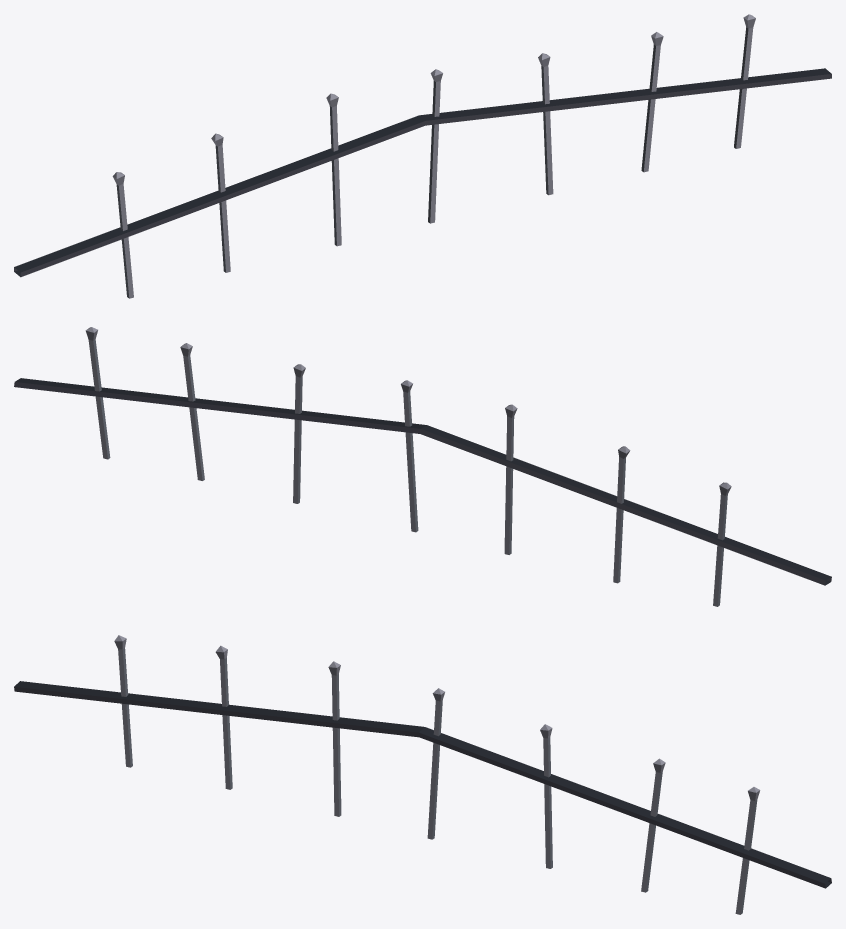
File: HWN20_SmallIronfFence_01.glb
The picture shows the model from 3 angles, top to bottom: view 1: azimuth 30°, elevation 25°; view 2: azimuth 150°, elevation 25°; view 3: azimuth 330°, elevation 25°; orthographic projection.
Parts seen in each view (by area): view 1: HWN20_SmallIronfFence_01; view 2: HWN20_SmallIronfFence_01; view 3: HWN20_SmallIronfFence_01.
Boxes of the visible parts, x1,y1,x2,y2 form: HWN20_SmallIronfFence_01: (14, 14, 831, 298); HWN20_SmallIronfFence_01: (14, 327, 831, 606); HWN20_SmallIronfFence_01: (14, 635, 831, 914).
Size of what is drawn, in the model's own units: 3.93 by 0.7083 by 0.0636.
Materials: 1 (1 with a texture image).
